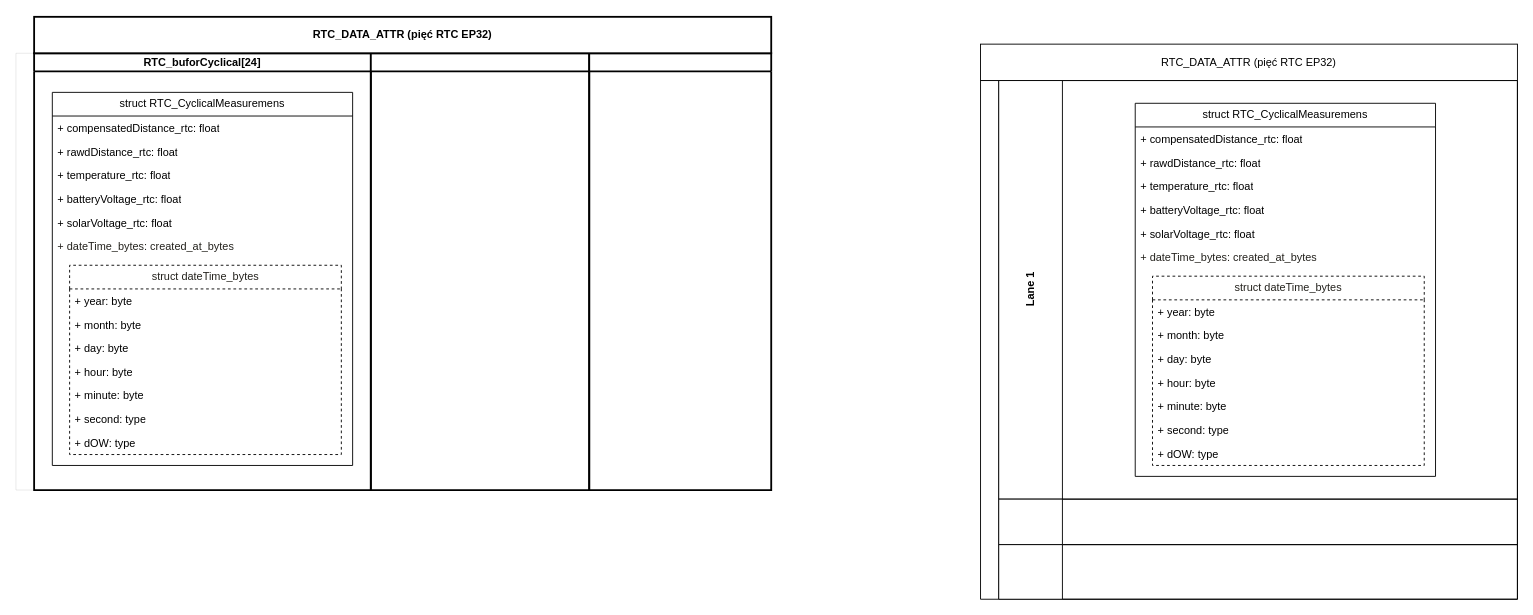
The diagram is 1533 pixels wide and 615 high, and some of its shapes have lost their labels. The shapes that lost their labels are listed below. From the top down, each one's centre as x and y in pixels, then its label:
At point 479,271: "RTC_buforSingle".
At point 680,271: "RTC_StatusBufor".
At point 1257,521: "Lane 2".
At point 1257,571: "Lane 3".
